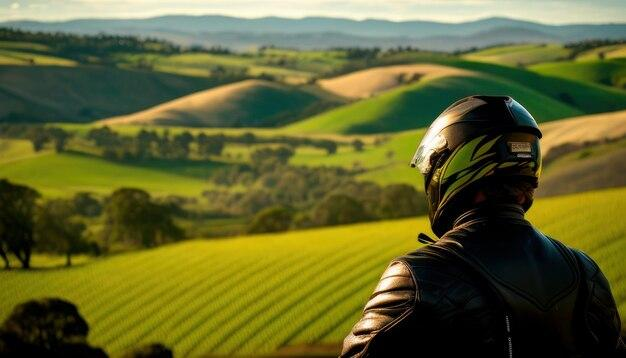Helmet: (409, 86, 541, 235)
